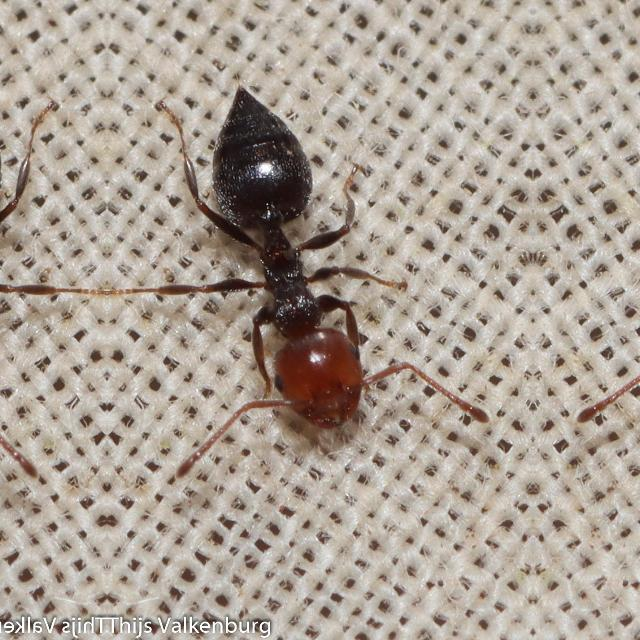Crematogaster: (136, 70, 398, 440), (0, 70, 76, 439)
